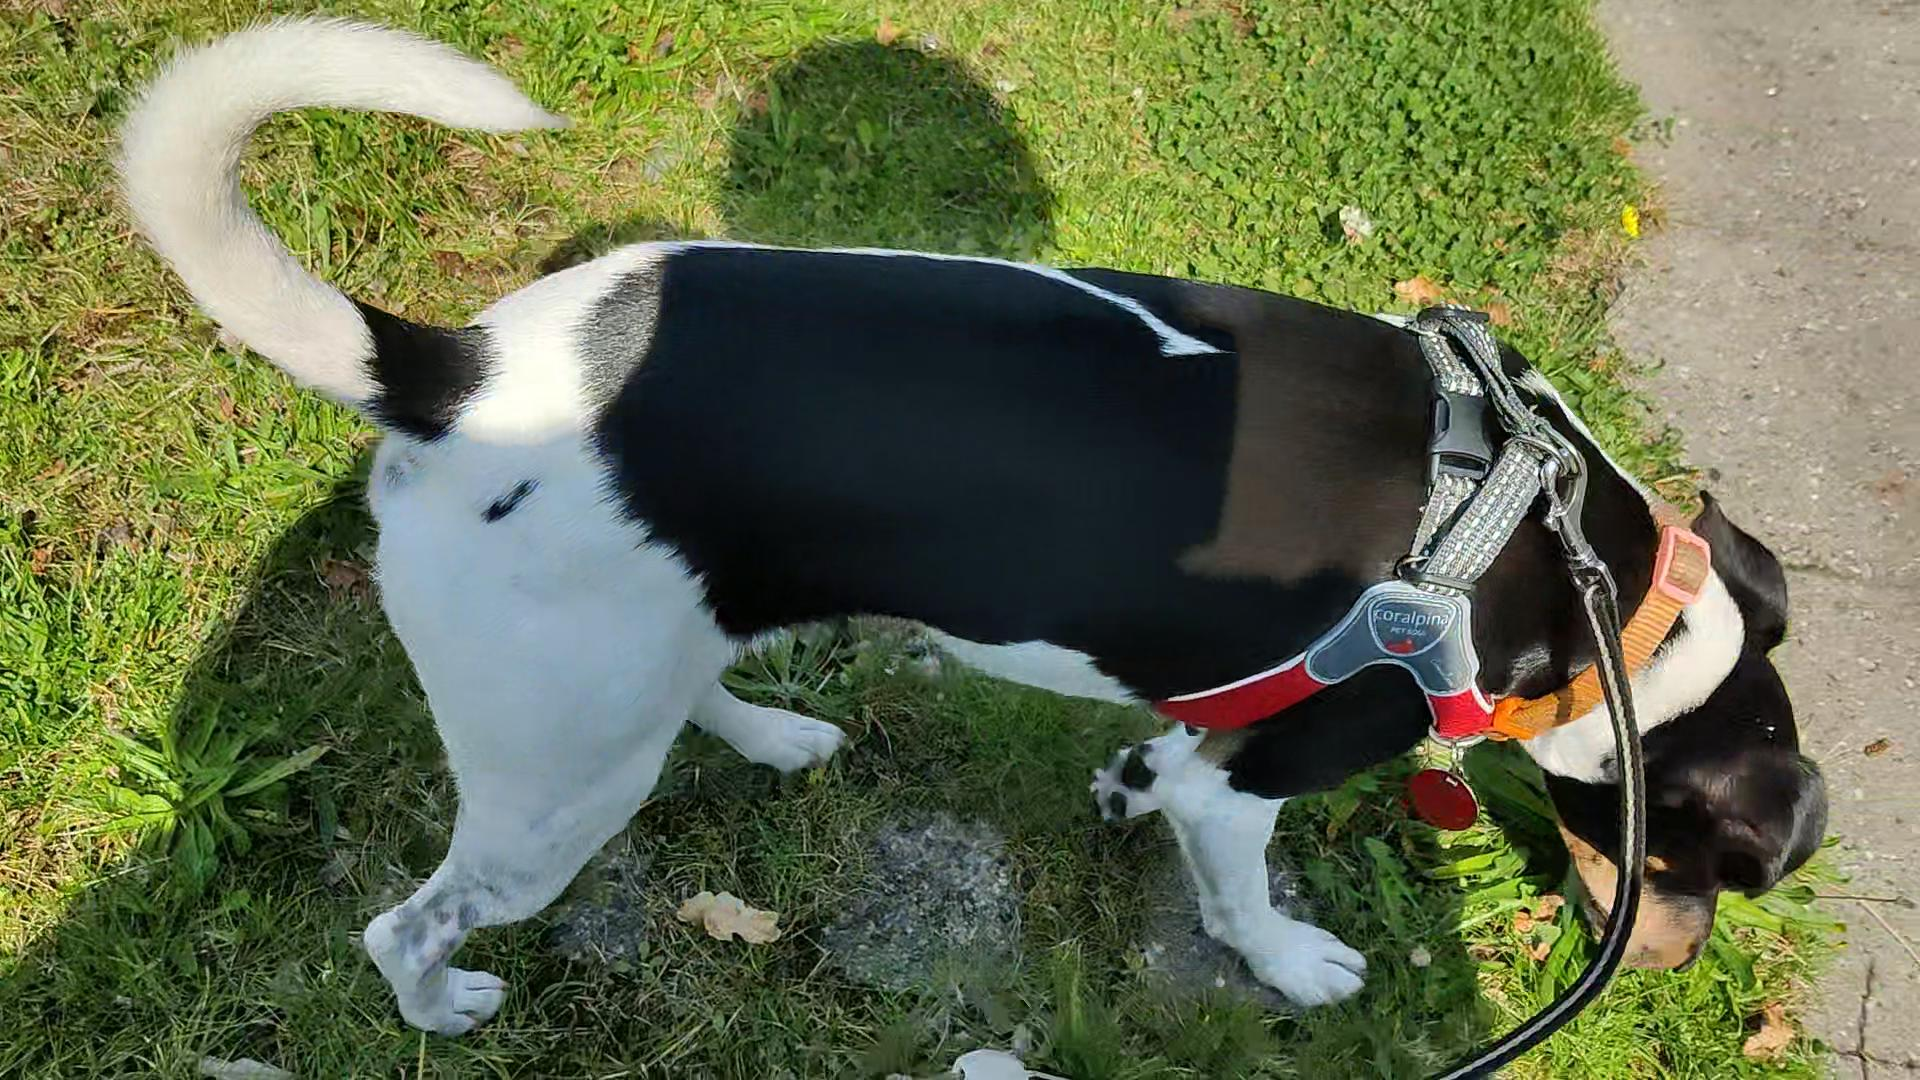Dog: (107, 13, 1833, 1043)
